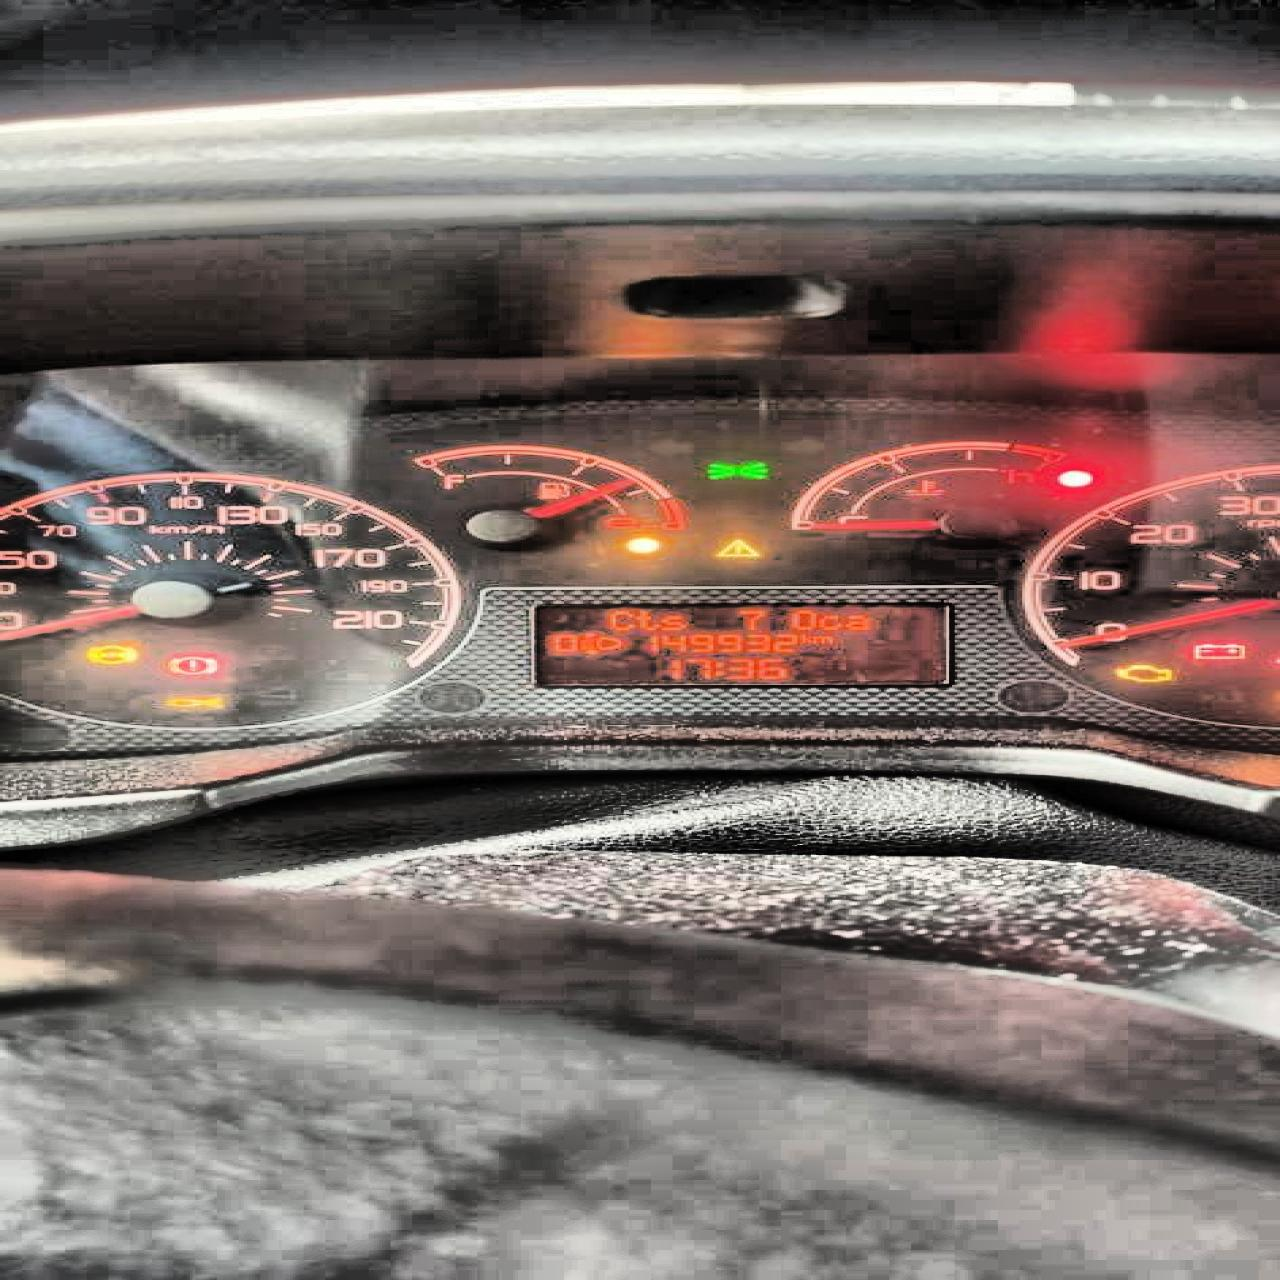0: (550, 633, 574, 652)
1: (665, 656, 681, 679), (646, 633, 656, 653)
2: (772, 633, 797, 652)
3: (727, 658, 751, 679), (743, 633, 770, 652)
4: (659, 633, 683, 652)
6: (754, 656, 787, 679)
7: (735, 606, 765, 628), (683, 656, 710, 679)
9: (686, 633, 713, 653), (716, 633, 741, 652)
X: (605, 608, 634, 632), (635, 608, 659, 632), (789, 610, 816, 629), (844, 612, 871, 629), (659, 614, 686, 629), (816, 614, 840, 629), (713, 660, 724, 675), (811, 634, 830, 644), (799, 633, 811, 642)
odometer: (526, 598, 960, 688)
